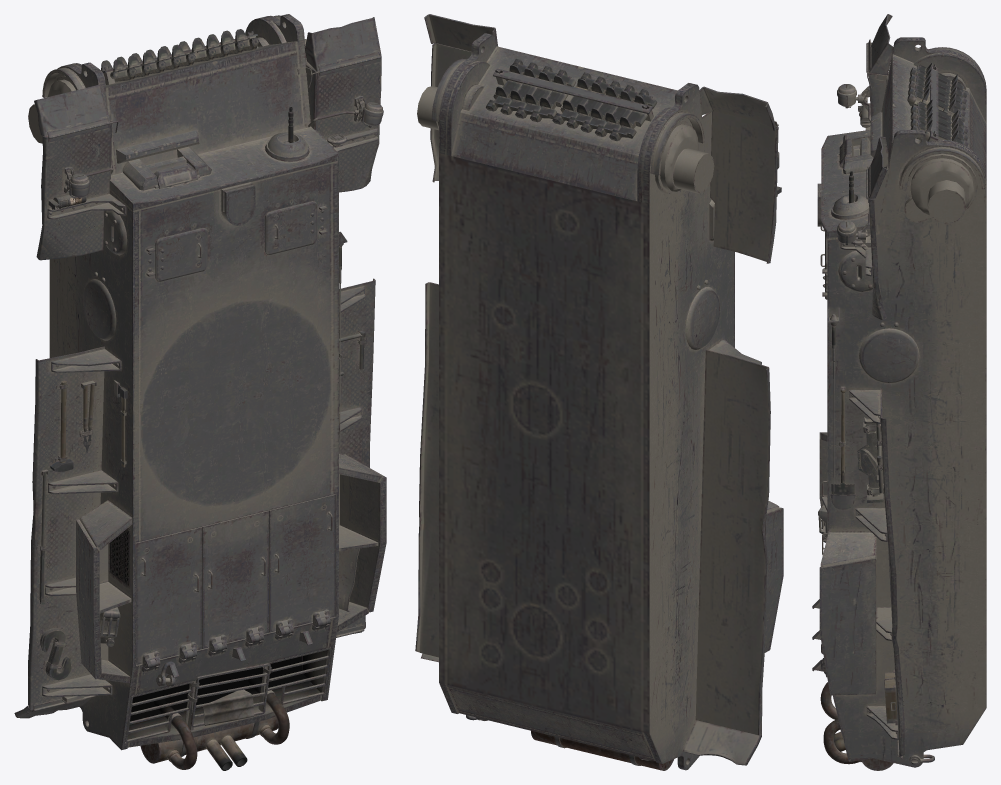
The model's file is Hull.glb.
3 renders of one model, left to right at view 1: azimuth 30°, elevation 25°; view 2: azimuth 150°, elevation 25°; view 3: azimuth 270°, elevation 25°, orthographic. The views are drawn at different scales.
Parts seen in each view (by area): view 1: set_0_group_0; view 2: set_0_group_0; view 3: set_0_group_0.
Part boxes in pixels (box(x1,y1,x2,y2)): set_0_group_0: box(14, 14, 386, 770); set_0_group_0: box(415, 14, 783, 770); set_0_group_0: box(812, 14, 986, 770).
Bounding box in the file's own units: 3.18 × 6.24 × 1.48.
1 material, 1 textured.
